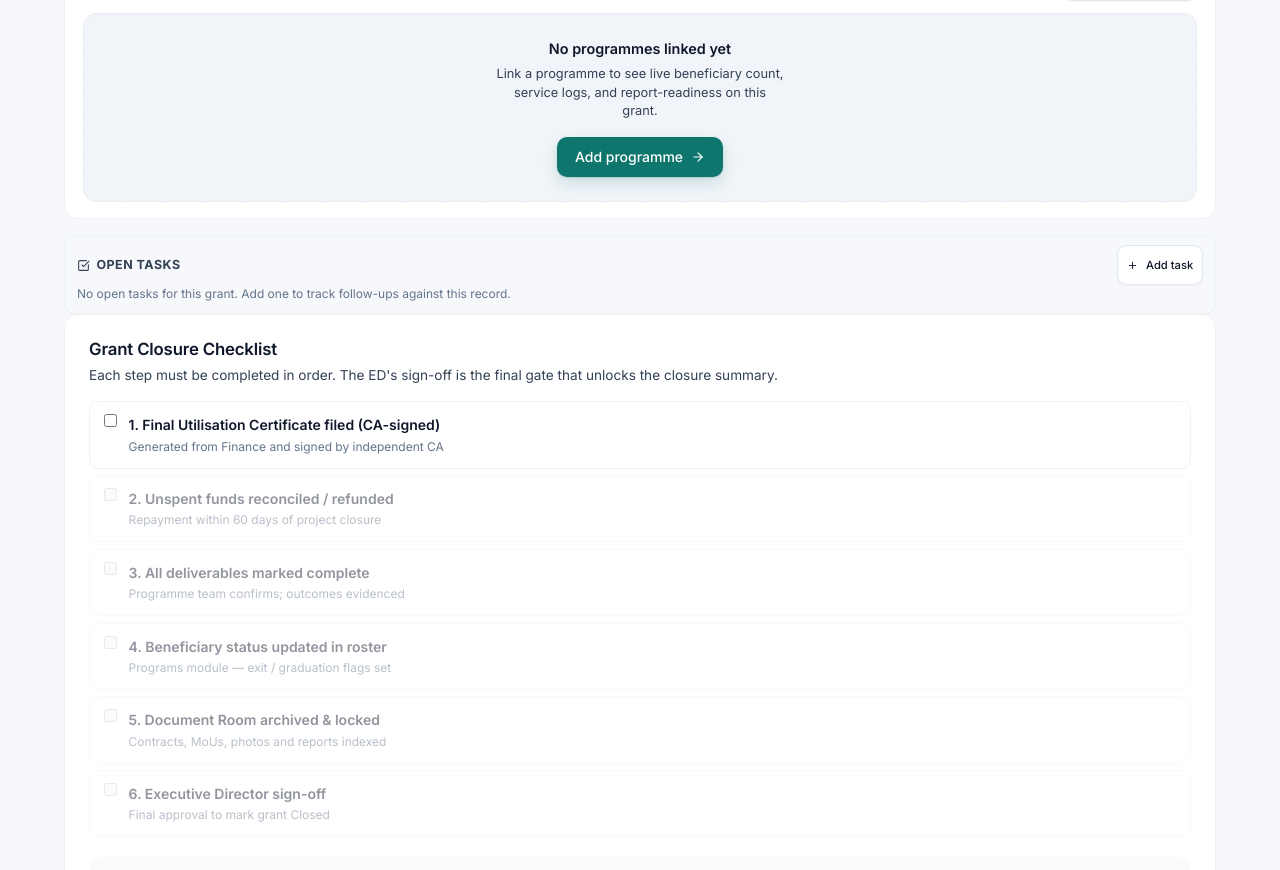
Grant closure gate › enforces the in-order checklist (each box disabled until previous ticked)
(page scrolled)
Expected: the heading "Grant Closure Checklist" is shown, [89,339,277,359]
Step 1. Click the 1st checkbox → (110, 421), box [104,414,117,427]
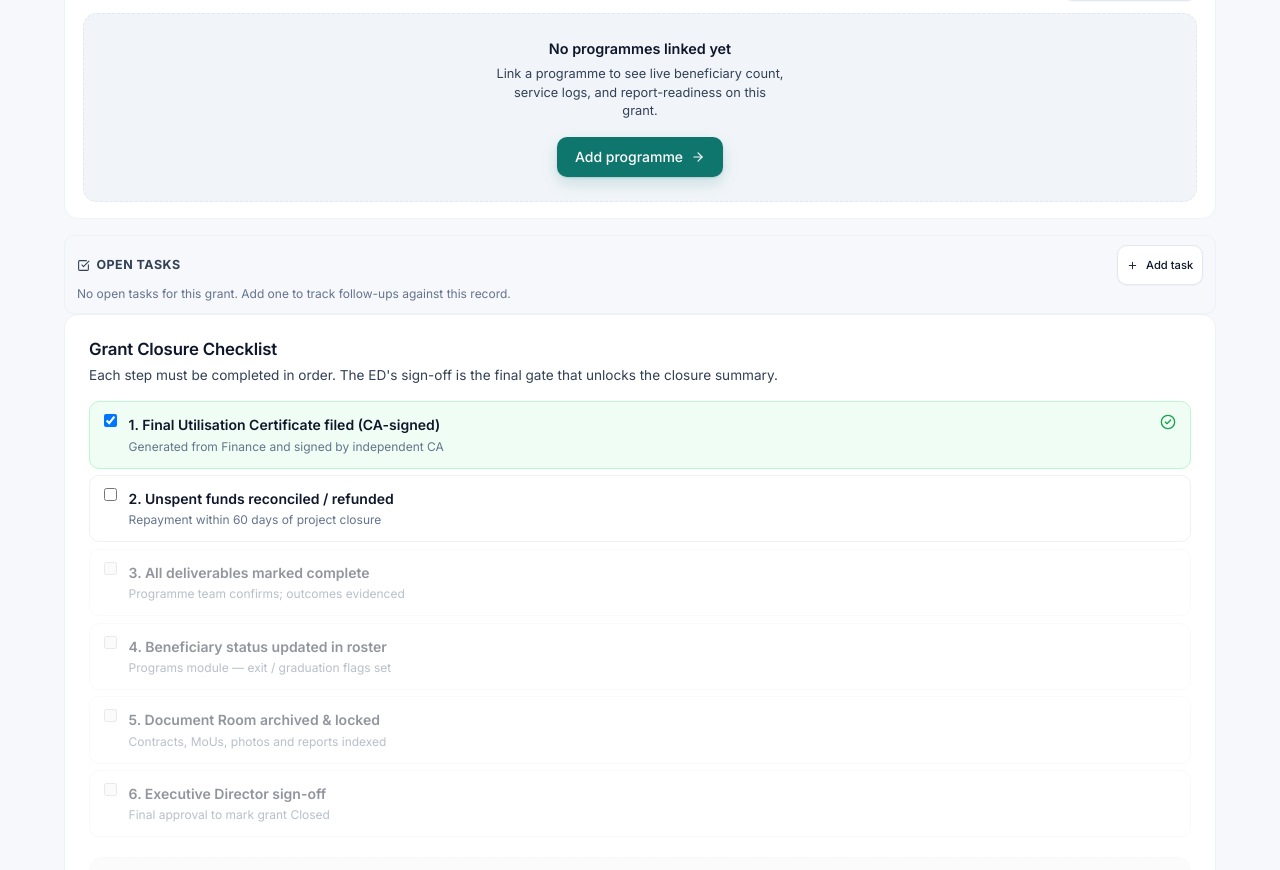
Now the checkbox in the row of "Unspent funds reconciled / refunded" is enabled, box [104,488,117,501]
